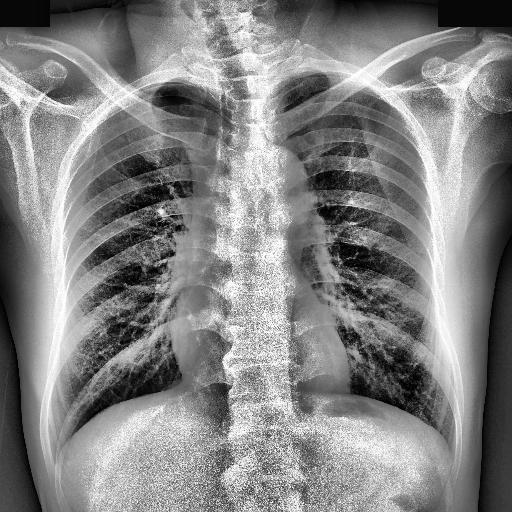0- Aortic enlargement: (250, 144, 312, 237), (241, 146, 310, 216), (249, 148, 309, 214)
